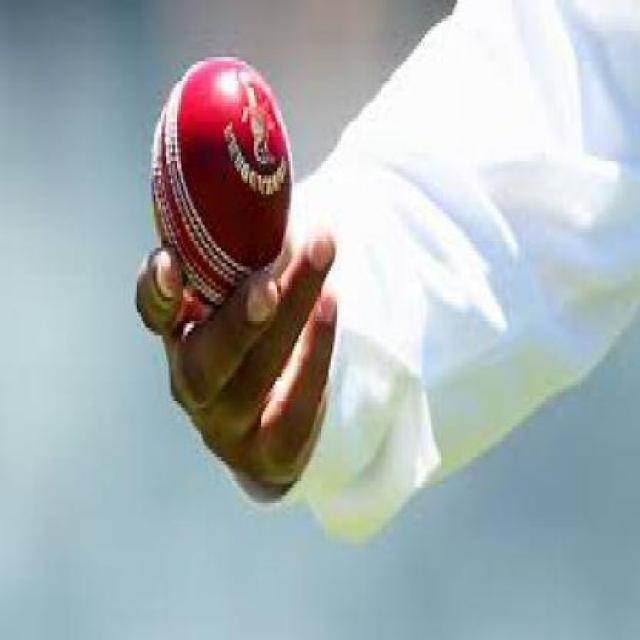ball: (124, 25, 331, 298)
